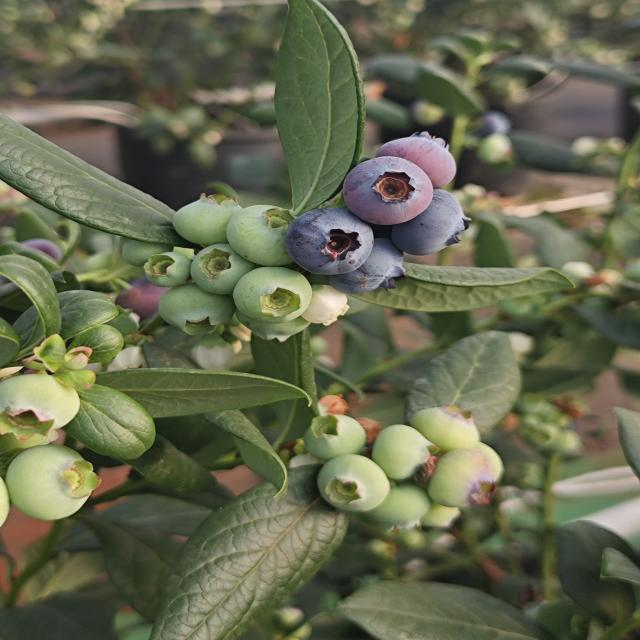ripe: (341, 155, 435, 226), (283, 206, 376, 277), (397, 188, 475, 268), (378, 126, 462, 190), (332, 233, 408, 298)
